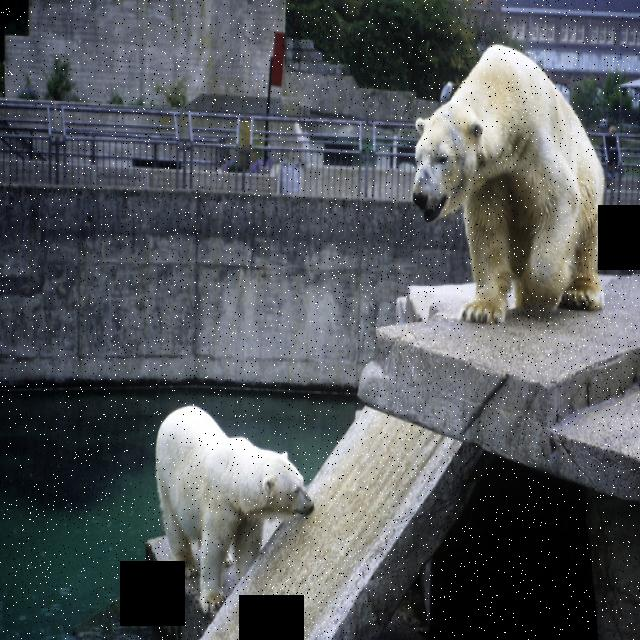Bear: (417, 30, 613, 324), (152, 400, 320, 606)
